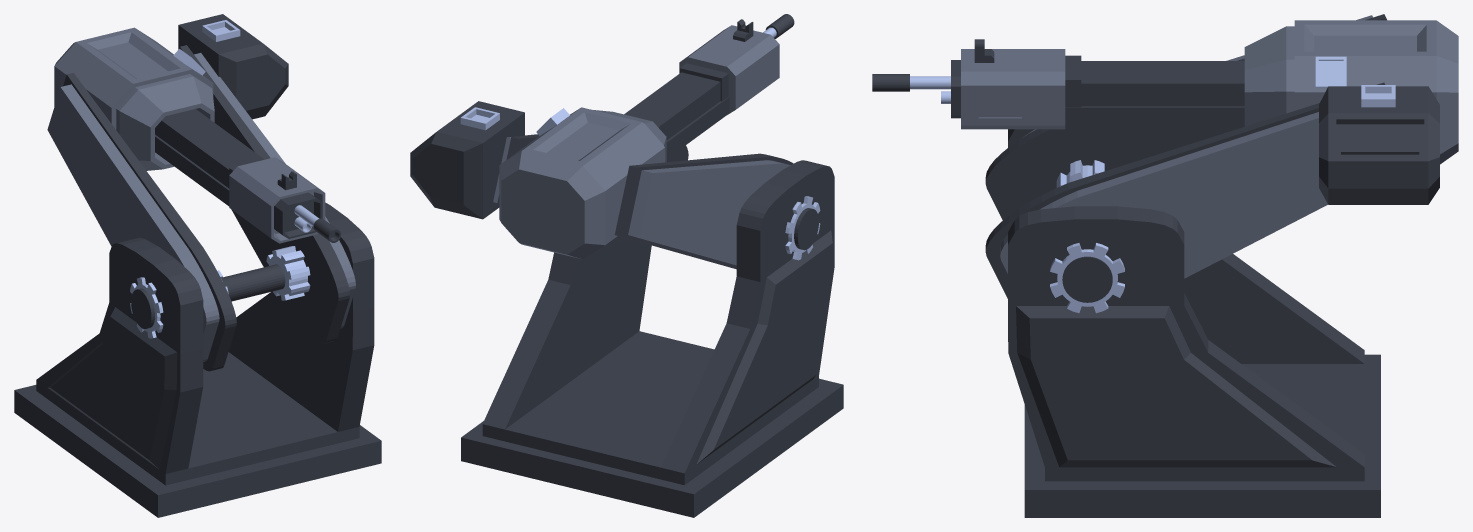
File: FutureTurret.fbx
3 renders of one model, left to right at view 1: azimuth 30°, elevation 25°; view 2: azimuth 150°, elevation 25°; view 3: azimuth 270°, elevation 25°, orthographic. The views are drawn at different scales.
Visible parts, largest first — view 1: Cube, Cube.005, Cube.002, Cube.003, Cube.010, Cube.006, Cube.004, Cube.007, Cube.001, Cylinder, Cylinder.002, Cube.008 (+3 smaller); view 2: Cube, Cube.005, Cube.002, Cube.010, Cube.006, Cube.007, Cube.004, Cylinder.004, Cylinder.006, Cube.003, Cube.011; view 3: Cube, Cube.001, Cube.005, Cube.010, Cube.006, Cube.004, Cube.007, Cube.003, Cylinder.005, Cylinder.003, Cube.012, Cube.011 (+2 smaller).
Boxes of the visible parts, x1,y1,x2,y2 form: Cube: (14, 202, 381, 517); Cube.005: (54, 27, 214, 170); Cube.002: (47, 84, 219, 361); Cube.003: (179, 45, 349, 343); Cube.010: (178, 14, 288, 119); Cube.006: (155, 109, 269, 206); Cube.004: (63, 72, 236, 371); Cube.007: (229, 157, 325, 243); Cube.001: (194, 53, 355, 328); Cylinder: (222, 264, 285, 301); Cylinder.002: (266, 246, 310, 300); Cube.008: (274, 192, 321, 238); Cube: (461, 160, 843, 517); Cube.005: (499, 107, 666, 259); Cube.002: (628, 160, 790, 265); Cube.010: (410, 101, 524, 219); Cube.006: (624, 63, 729, 158); Cube.007: (679, 25, 779, 114); Cube.004: (614, 153, 793, 269); Cylinder.004: (794, 208, 818, 250); Cylinder.006: (785, 196, 820, 260); Cube.003: (497, 134, 688, 243); Cube.011: (460, 107, 499, 130); Cube: (1008, 129, 1380, 517); Cube.001: (1000, 112, 1327, 278); Cube.005: (1244, 20, 1458, 164); Cube.010: (1319, 86, 1439, 204); Cube.006: (1065, 55, 1244, 127); Cube.004: (985, 14, 1386, 220); Cube.007: (961, 49, 1065, 129); Cube.003: (985, 82, 1385, 298); Cylinder.005: (1050, 243, 1124, 313); Cylinder.003: (1062, 256, 1112, 302); Cube.012: (1315, 56, 1346, 88); Cube.011: (1361, 85, 1395, 107).
Size of the model in its own units: 226 by 288 by 367.
